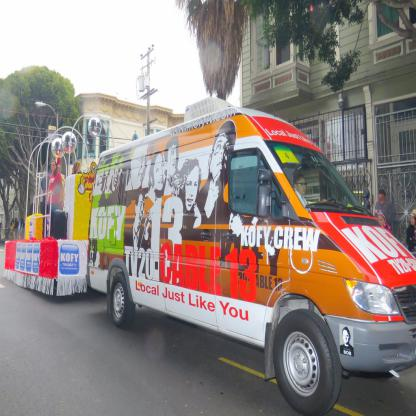Bus: (85, 96, 416, 416)
Truck: (88, 97, 415, 415)
